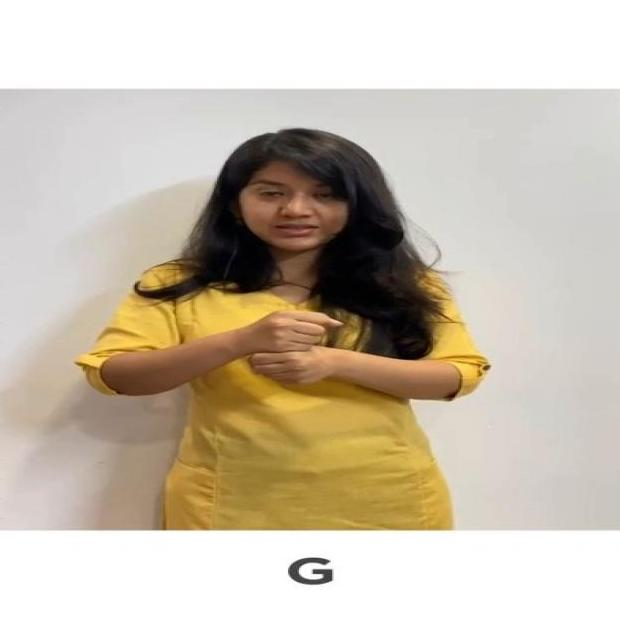F: (223, 299, 385, 403)
